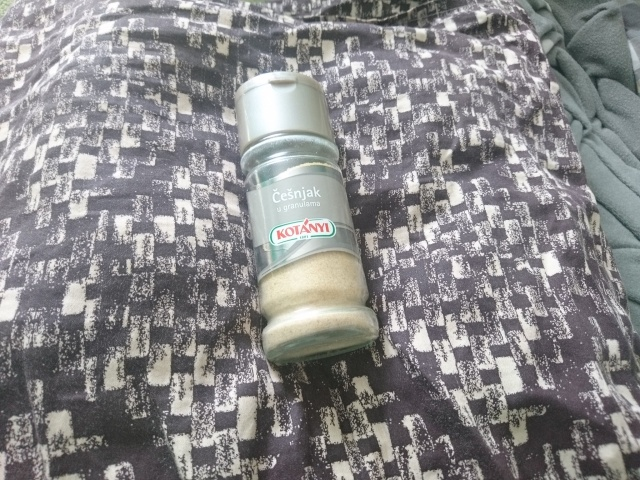Kotanyi Garlic Granules 70g: (231, 69, 383, 366)
